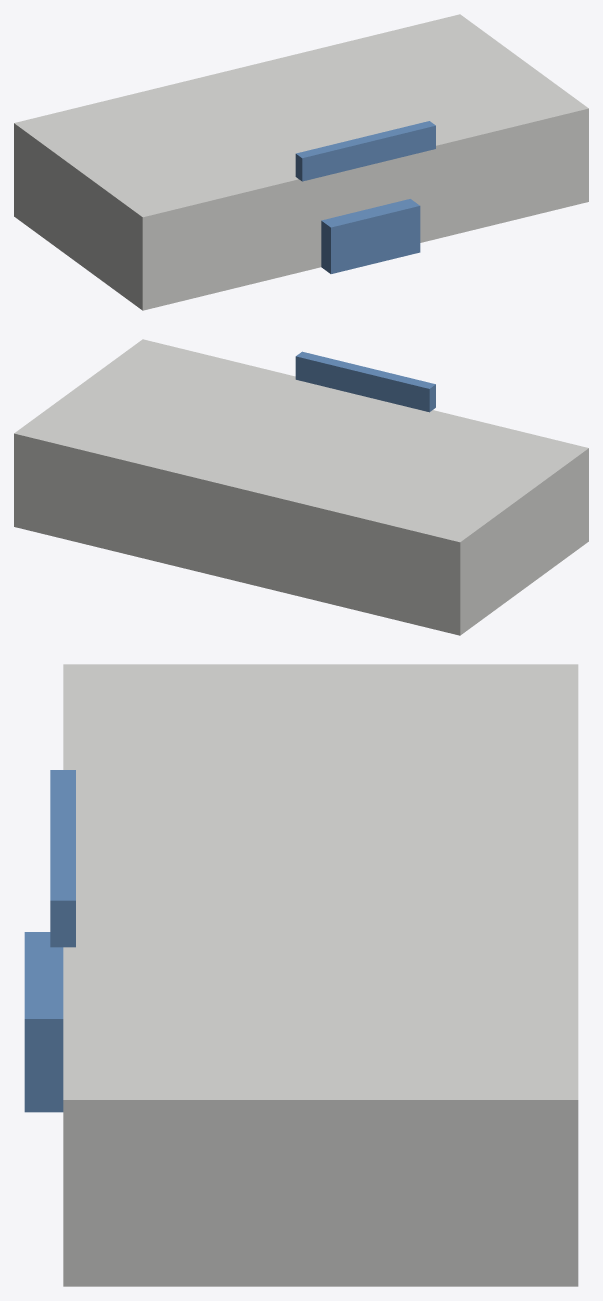
File: dartmouth_mall.glb
3 views of the same model, one above another, from view 1: azimuth 30°, elevation 25°; view 2: azimuth 150°, elevation 25°; view 3: azimuth 270°, elevation 25° (orthographic). The views are drawn at different scales.
Visible parts, largest first — view 1: body, entrance, sign; view 2: body, sign; view 3: body, entrance, sign.
Boxes of the visible parts, box(x1,y1,x2,y2) form: body: box(14, 14, 588, 310); entrance: box(321, 199, 420, 273); sign: box(295, 121, 435, 181); body: box(14, 339, 588, 635); sign: box(295, 351, 435, 412); body: box(63, 664, 578, 1286); entrance: box(24, 932, 63, 1112); sign: box(50, 770, 75, 947).
Size of the model in its own units: 40 by 10 by 21.5.
